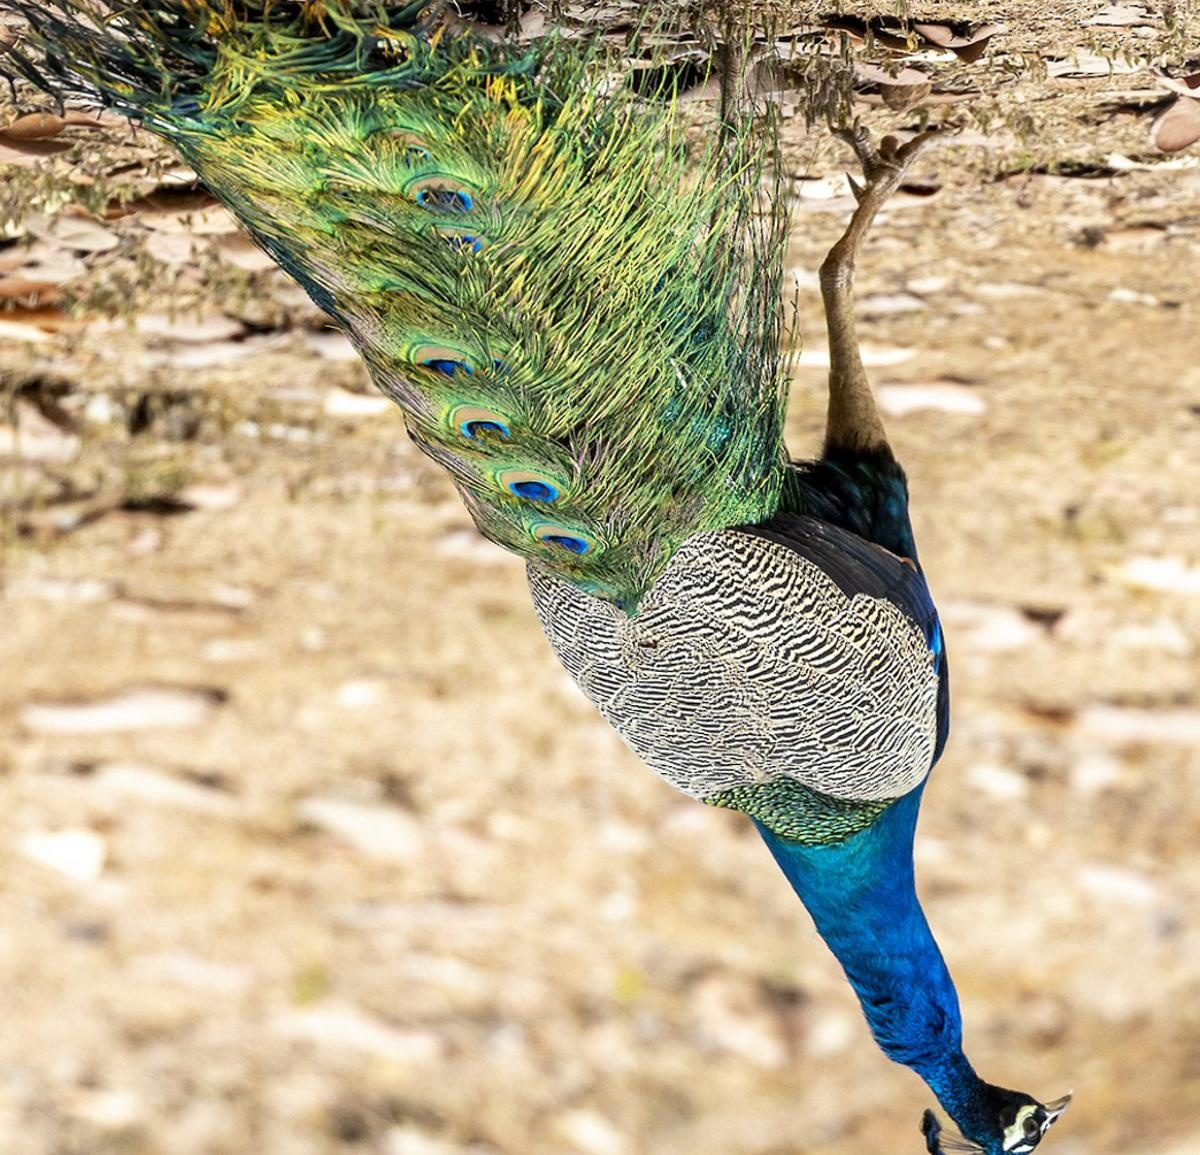peacock: (103, 52, 1102, 1151)
